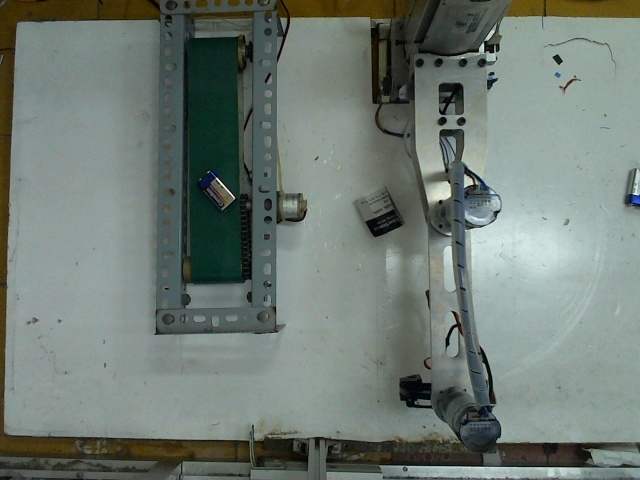battery: (194, 167, 237, 210)
